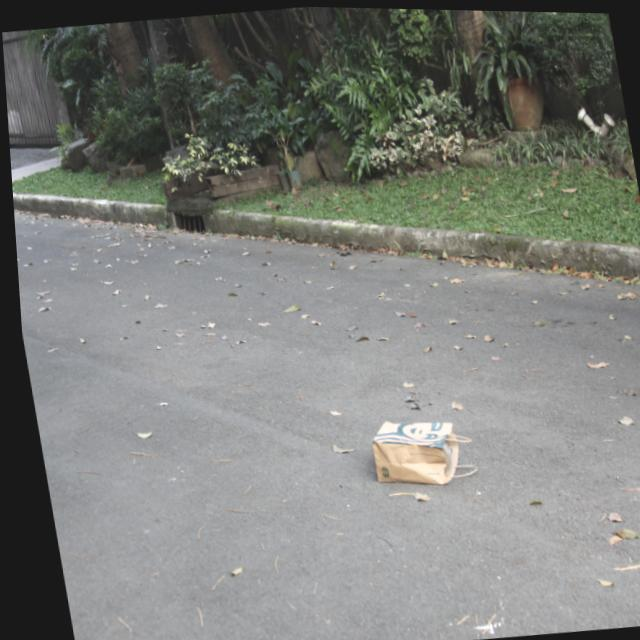Paper_Bag: (362, 409, 472, 492)
